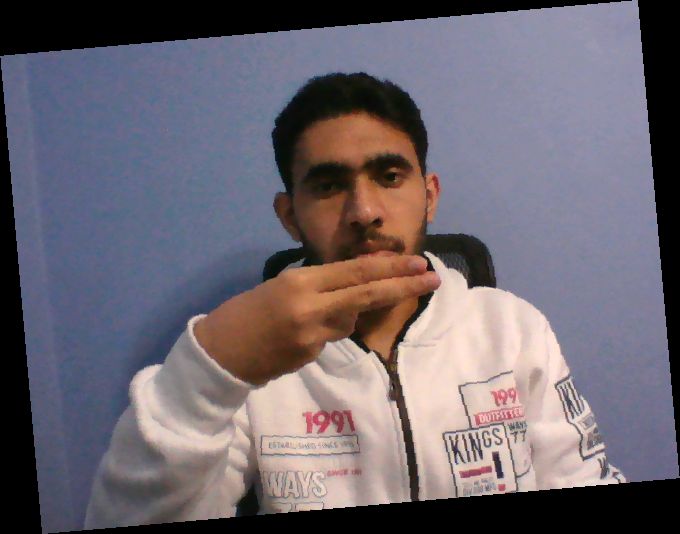H: (182, 251, 443, 387)
